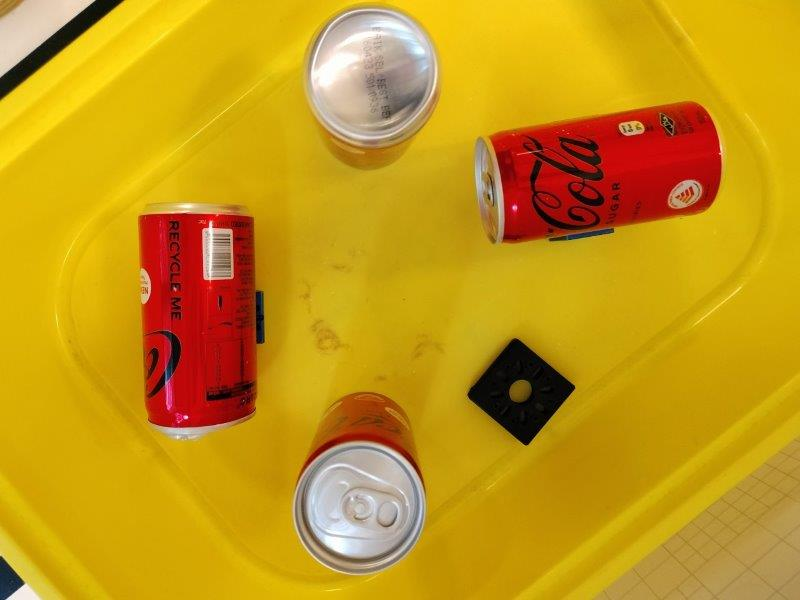Coke: (476, 100, 726, 245), (138, 200, 256, 436), (291, 392, 429, 577), (300, 3, 442, 171)
